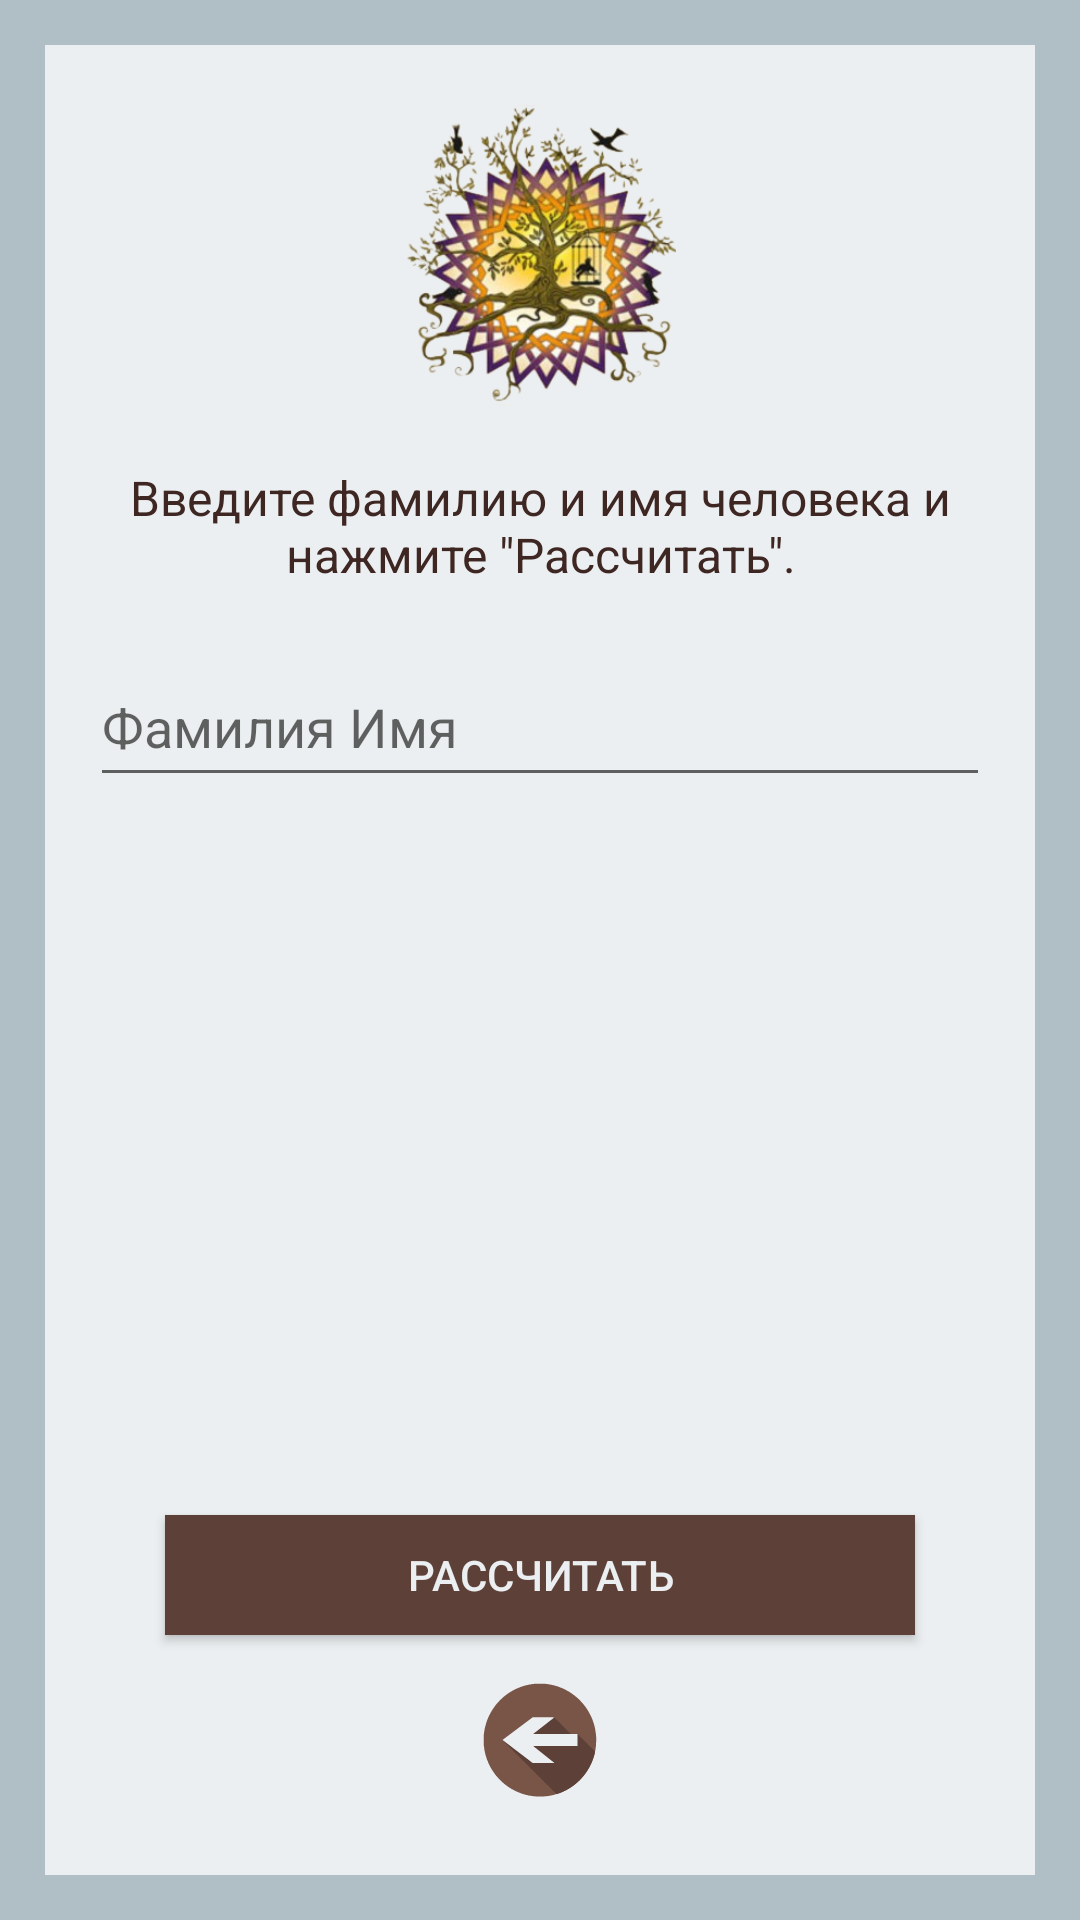

Named icons in this screenshot (1080x1920) and their centers, (x,y):
kabbala: (541,254)
